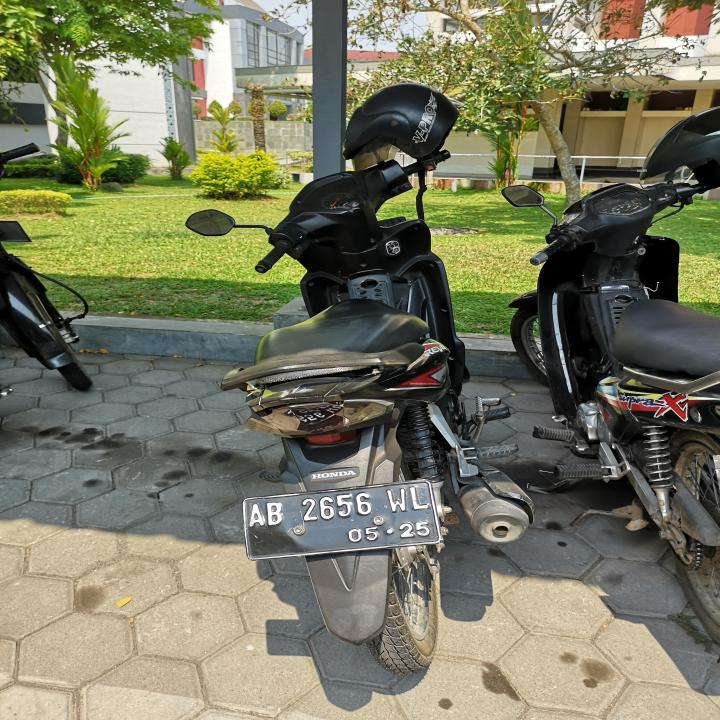plate: (241, 476, 443, 562)
